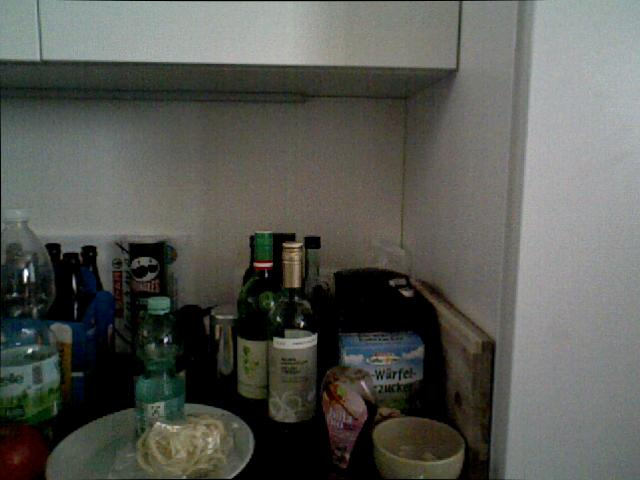bench: (0, 202, 64, 428), (266, 240, 318, 425), (235, 230, 280, 405), (133, 296, 186, 439), (301, 233, 332, 306), (60, 255, 85, 325), (82, 243, 103, 304), (42, 242, 63, 285)
bicycle: (0, 421, 49, 479)
bird: (371, 417, 464, 480)
hot dog: (489, 0, 639, 479)
